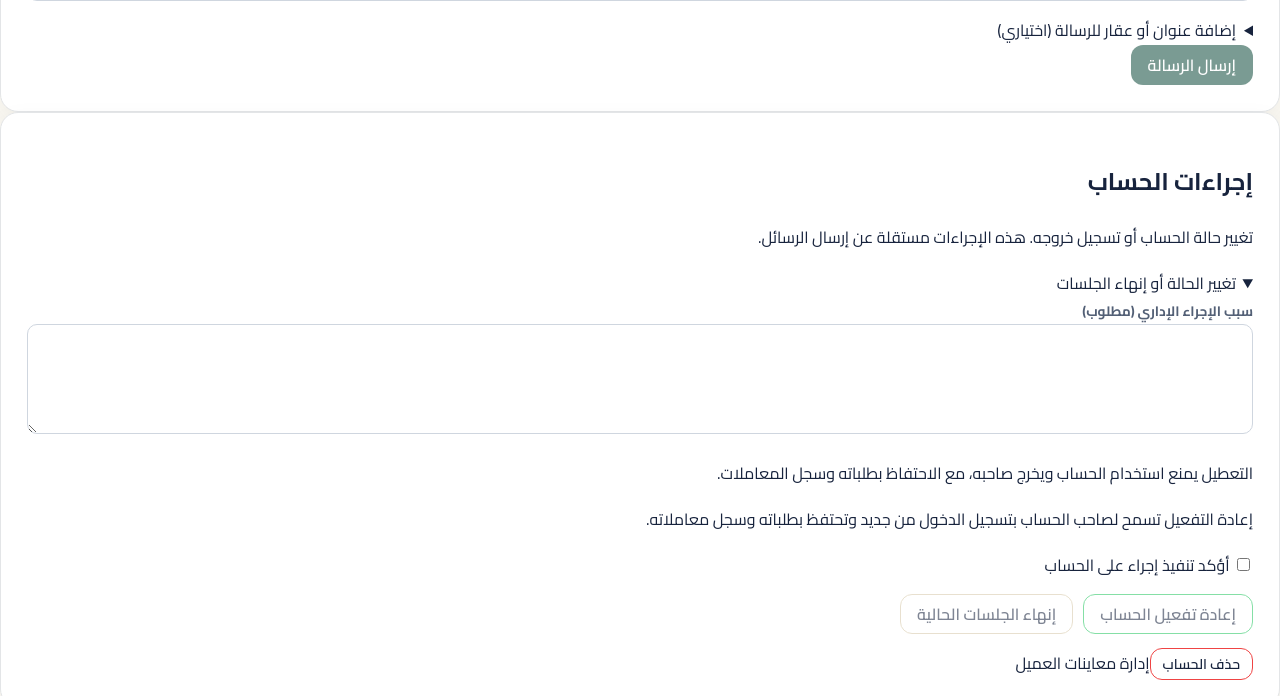
Test case: simplified account messaging and actions › reactivates suspended providers through coherent provider review and preserves a failed reason in ar
(page scrolled)
Expected: the button "إعادة تفعيل الحساب" is disabled, [1083,594,1253,634]
In the text box labelled "سبب الإجراء الإداري (مطلوب)": (640, 379) [27,324,1253,434], type "Reviewed suspension"
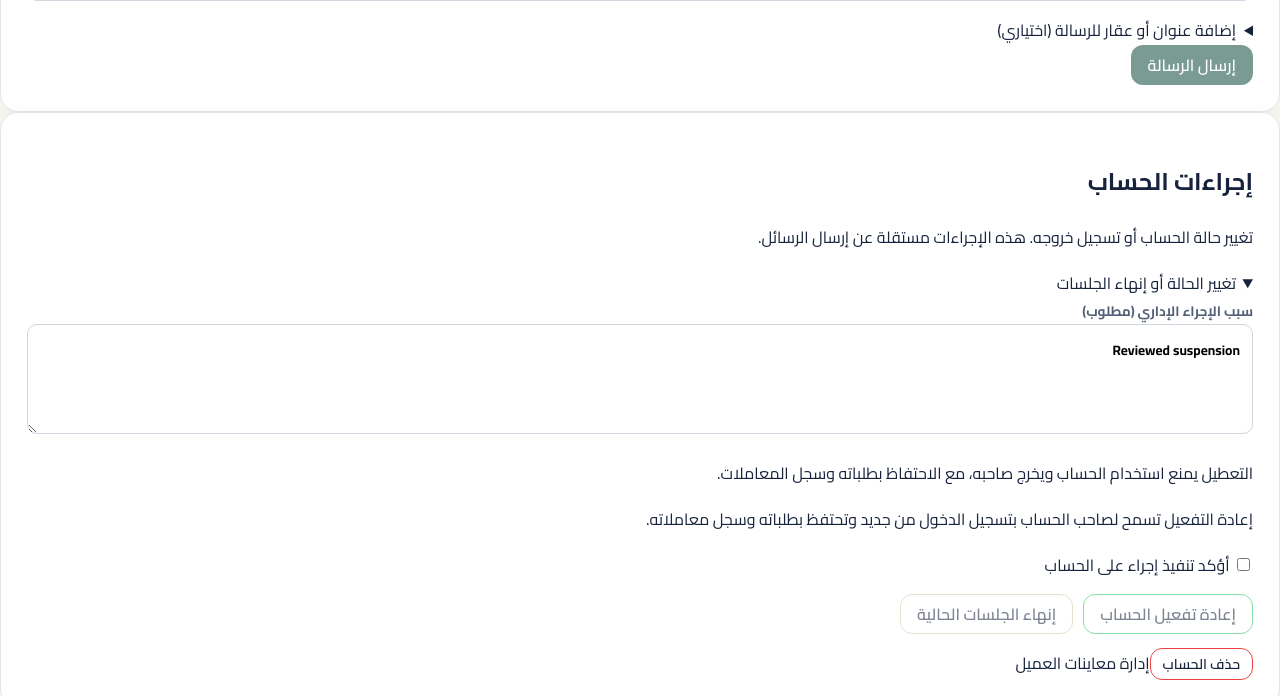
Expected: the button "إعادة تفعيل الحساب" is disabled, [1083,594,1253,634]
Click the checkbox: (1244, 564) [1237,558,1250,571]
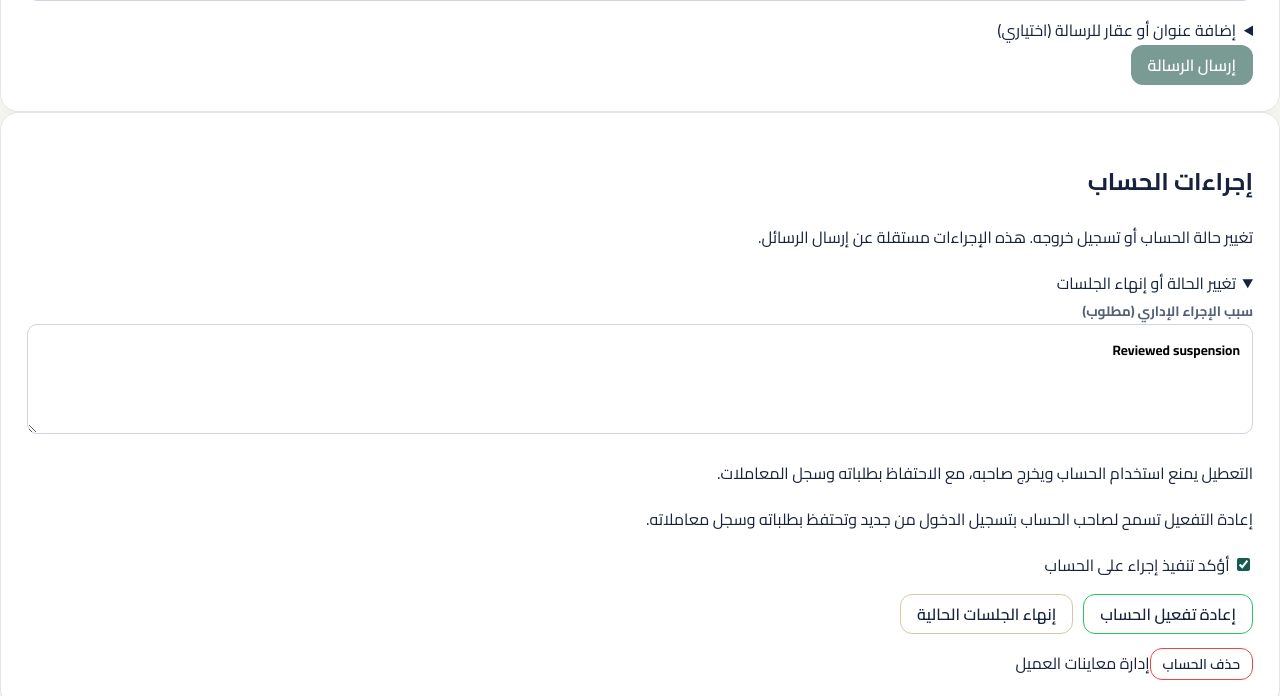
Click the button "إعادة تفعيل الحساب": (1168, 614) [1083,594,1253,634]
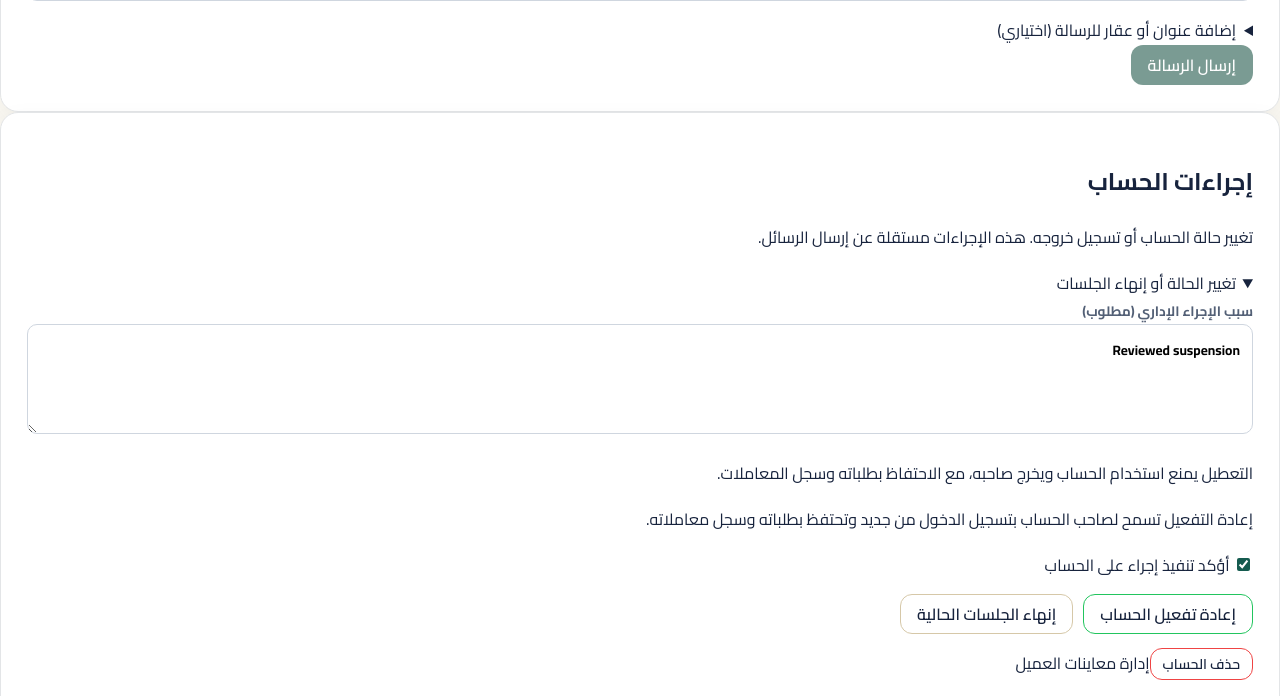
Expected: the checkbox is checked, [1237,558,1250,571]
Click the button "إعادة تفعيل الحساب": (1168, 614) [1083,594,1253,634]
(page scrolled)
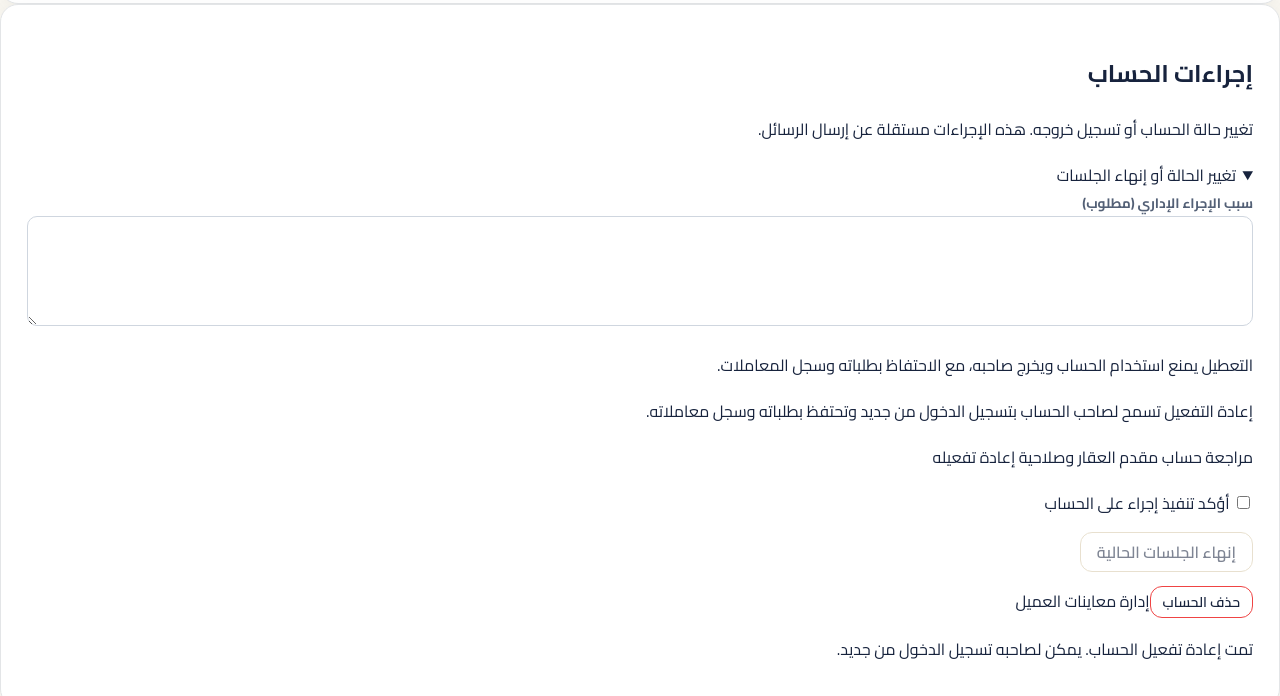
Expected: the checkbox is not checked, [1237,496,1250,509]
Expected: the text box labelled "سبب الإجراء الإداري (مطلوب)" is empty, [27,216,1253,326]
Expected: the message shows "تمت إعادة تفعيل الحساب", [837,634,1253,664]
